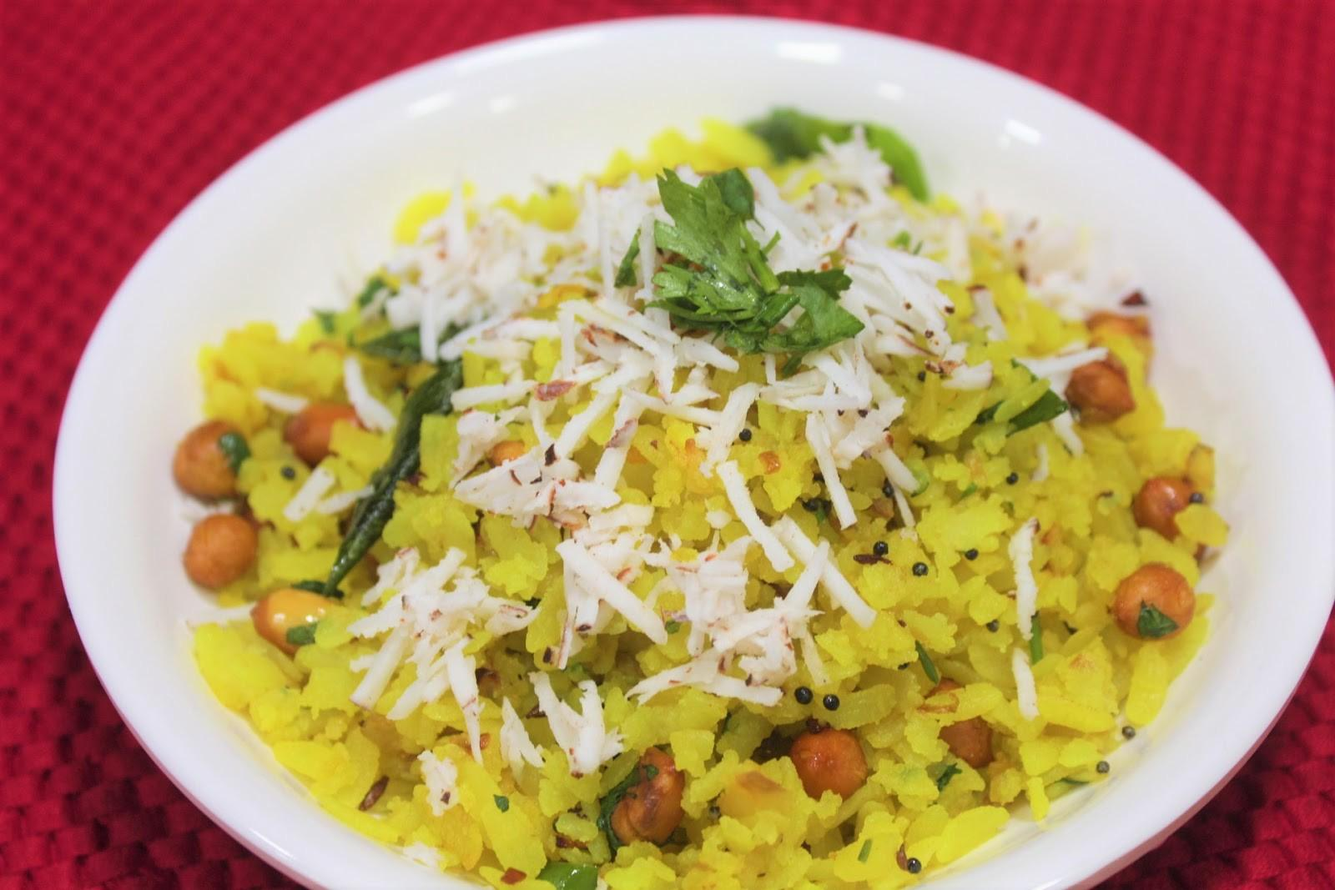Poha: (179, 109, 1230, 890)
